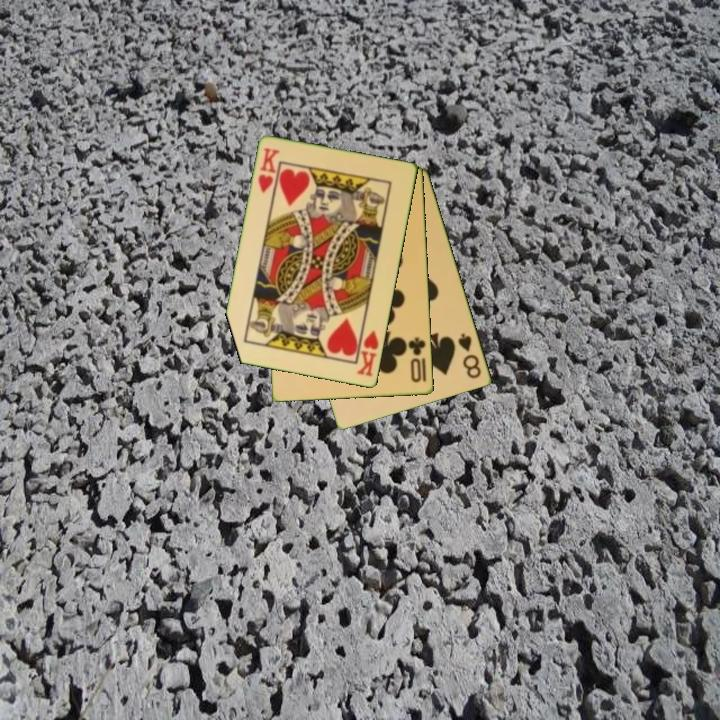10c: (405, 334, 429, 385)
8s: (455, 330, 485, 382)
Kh: (353, 323, 382, 380), (255, 144, 283, 197)
